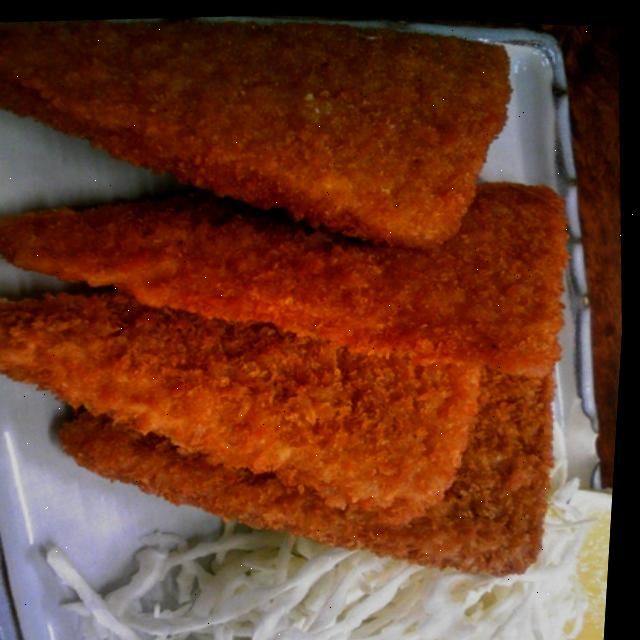炸货点心: (0, 0, 617, 608)
